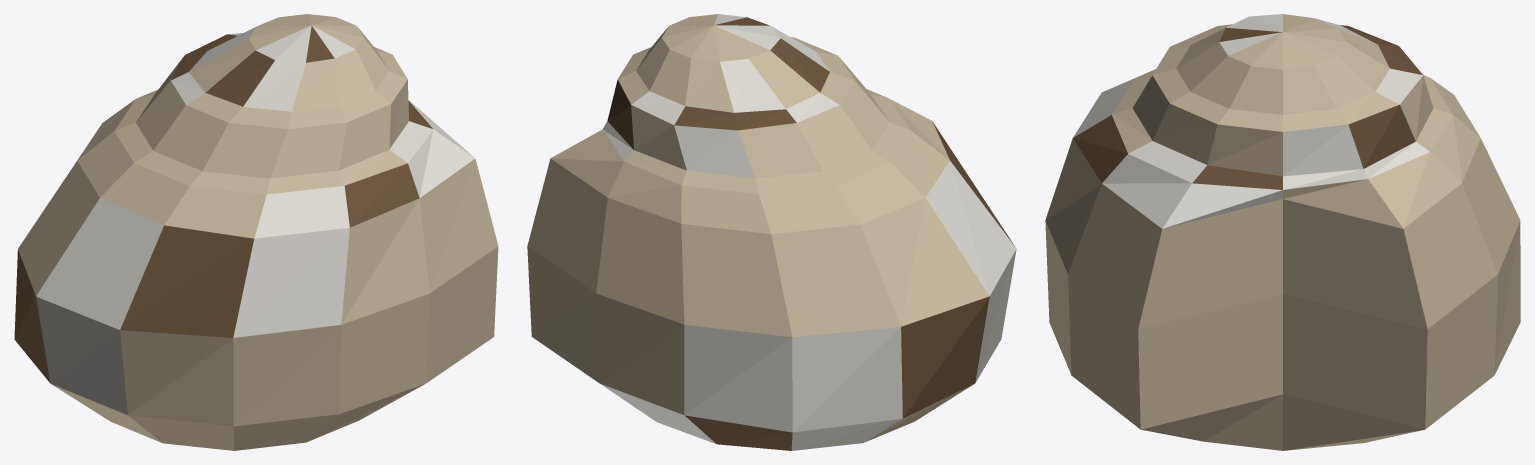
File: snail_shell.glb
3 renders of one model, left to right at view 1: azimuth 30°, elevation 25°; view 2: azimuth 150°, elevation 25°; view 3: azimuth 270°, elevation 25°, orthographic. The views are drawn at different scales.
Visible parts, largest first — view 1: snail_shell; view 2: snail_shell; view 3: snail_shell.
Part boxes in pixels (bbox=[...]): snail_shell: bbox=[14, 14, 498, 450]; snail_shell: bbox=[527, 14, 1016, 450]; snail_shell: bbox=[1045, 14, 1520, 450].
Size of the model in its own units: 0.06 by 0.05 by 0.055.
